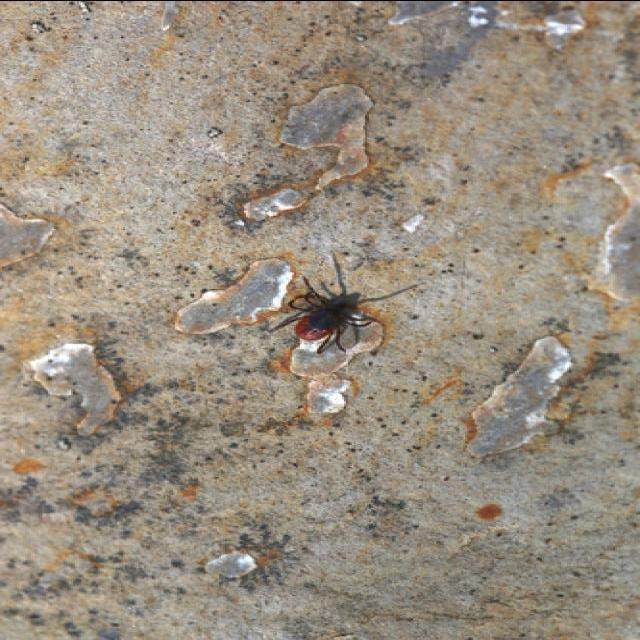Ixodes Ricinus-F: (263, 275, 373, 355)
